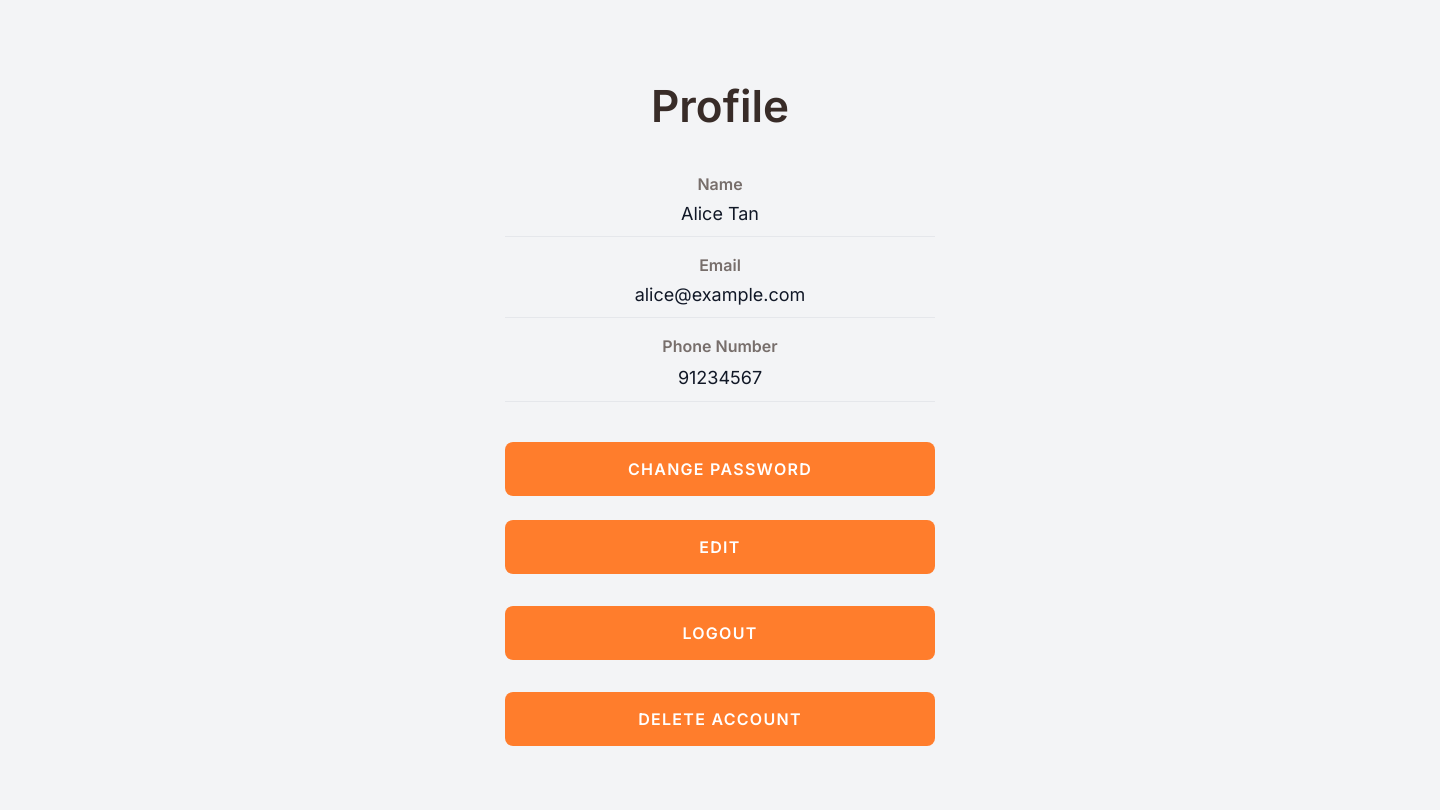
Test: Profile Page › validates empty and mismatched passwords in delete modal
The width and height of the screenshot is (1440, 810).
Expected: the text "Profile" is shown, [651,79,789,133]
// Open delete modal
Click the button "Delete Account" at (720, 719), box [505,692,935,746]
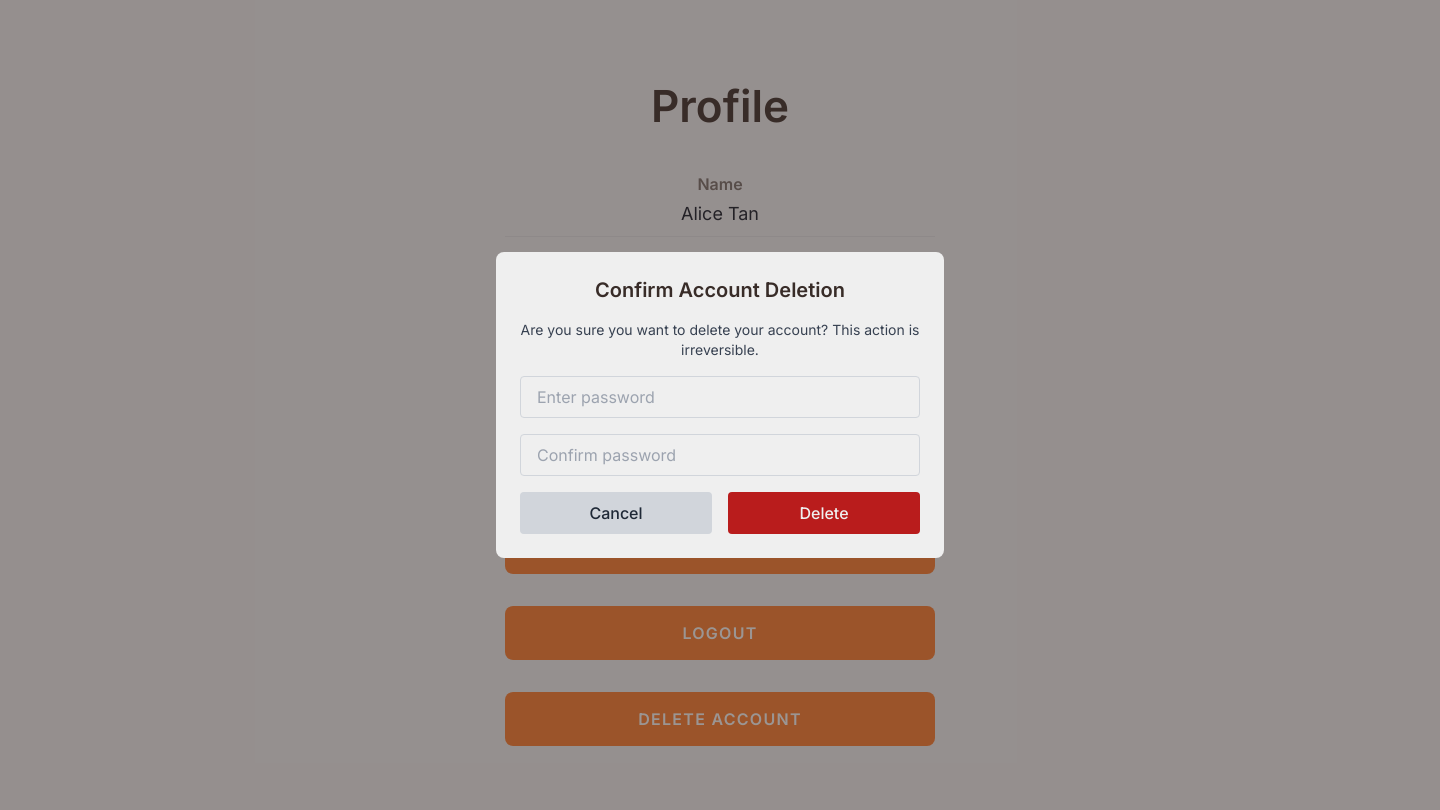
Expected: the heading "Confirm Account Deletion" is shown, [595,278,845,302]
Click the button "Delete" at (824, 513), box [728,492,920,534]
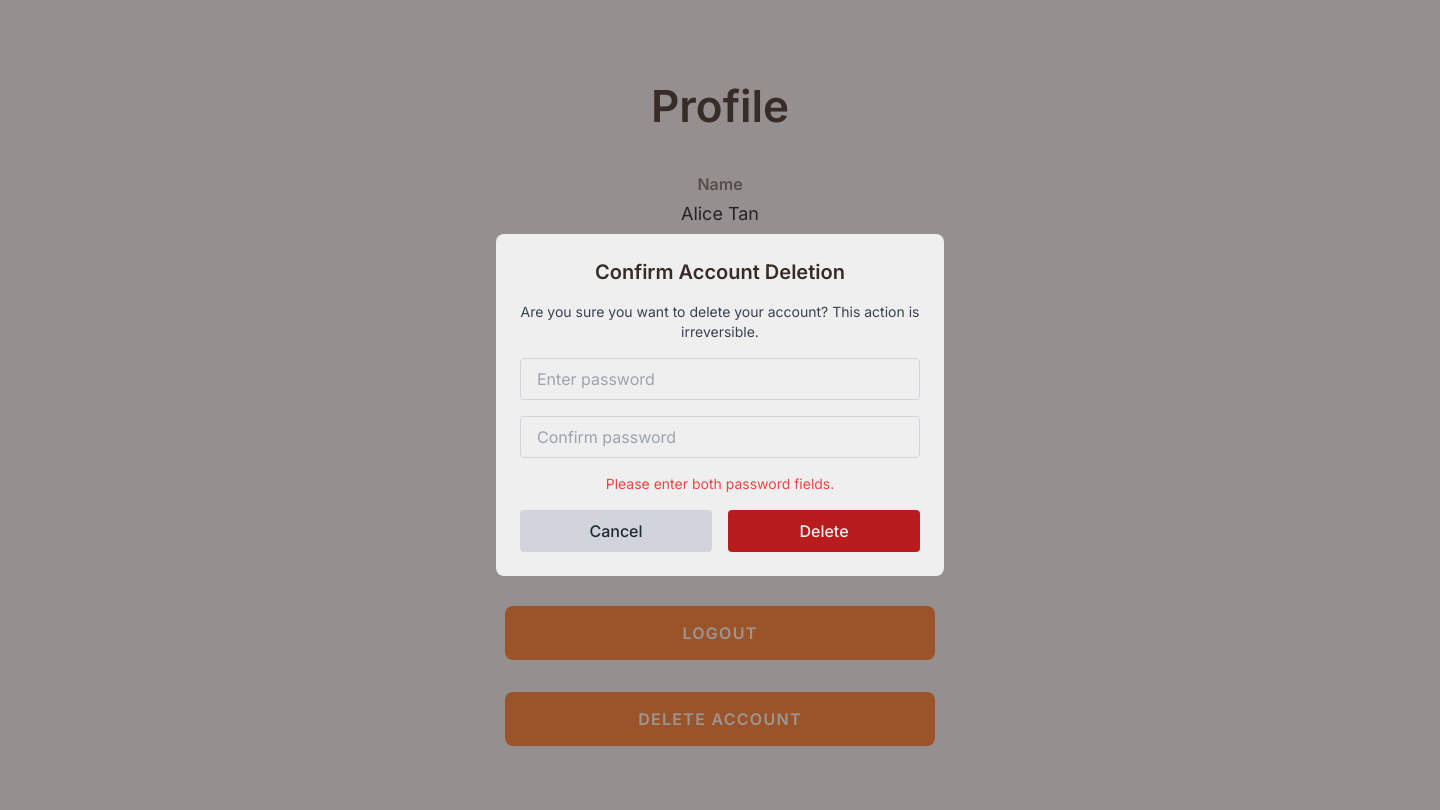
Expected: the text "Please enter both password fields." is shown, [606,475,834,492]
Type "Secret123!" into the password field with placeholder "Enter password" at (720, 379), box [520,358,920,400]
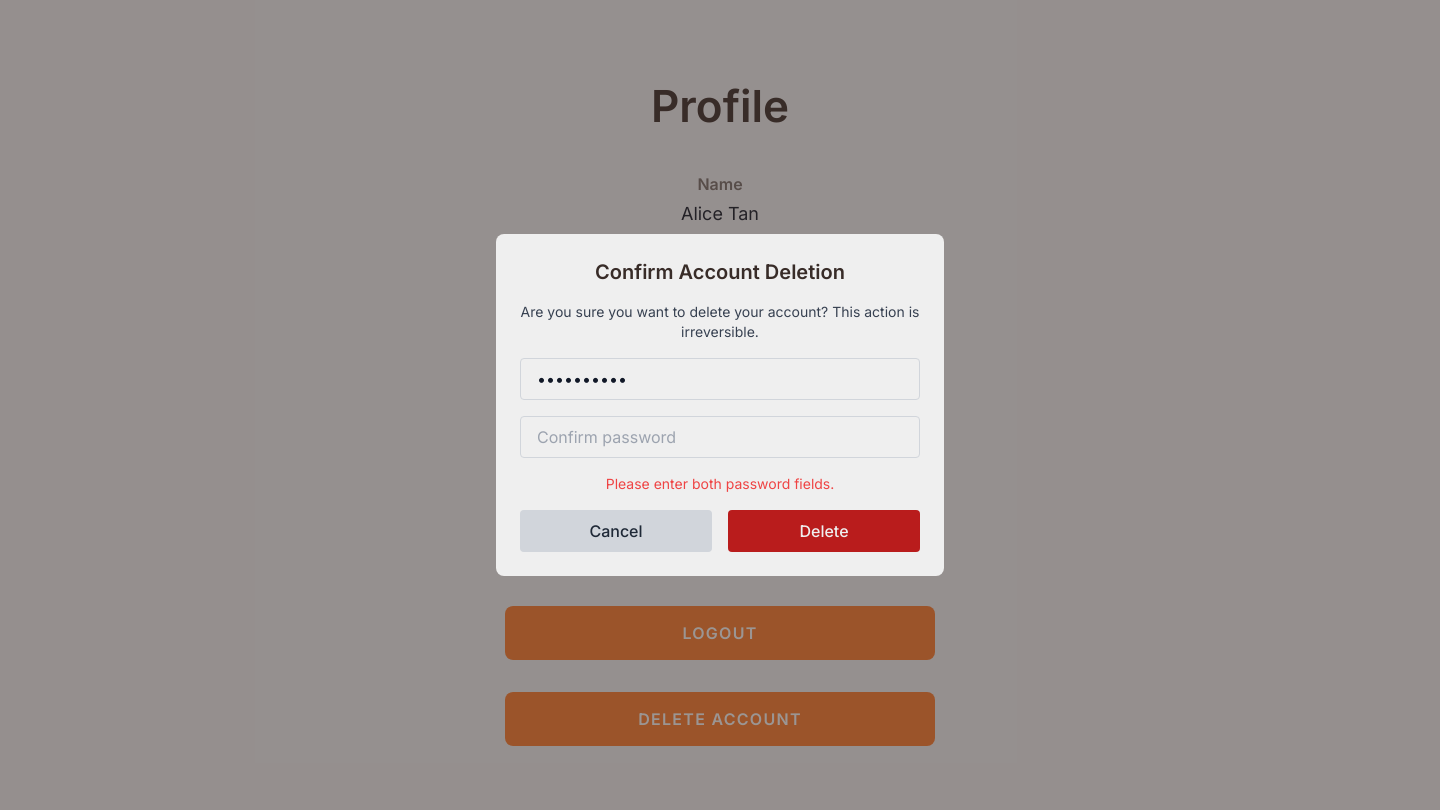
Type "Secret999!" into the password field with placeholder "Confirm password" at (720, 437), box [520,416,920,458]
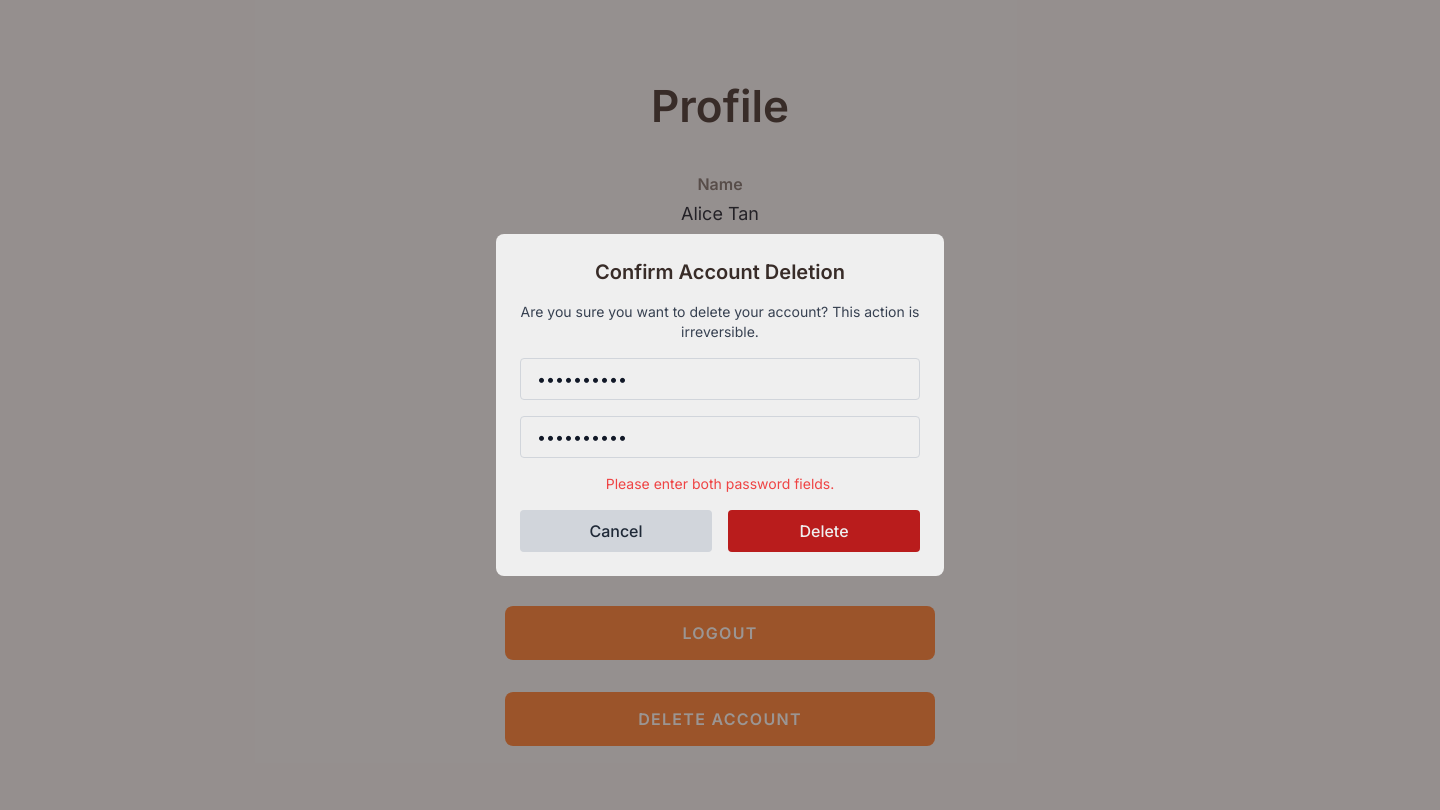
Click the button "Delete" at (824, 531), box [728,510,920,552]
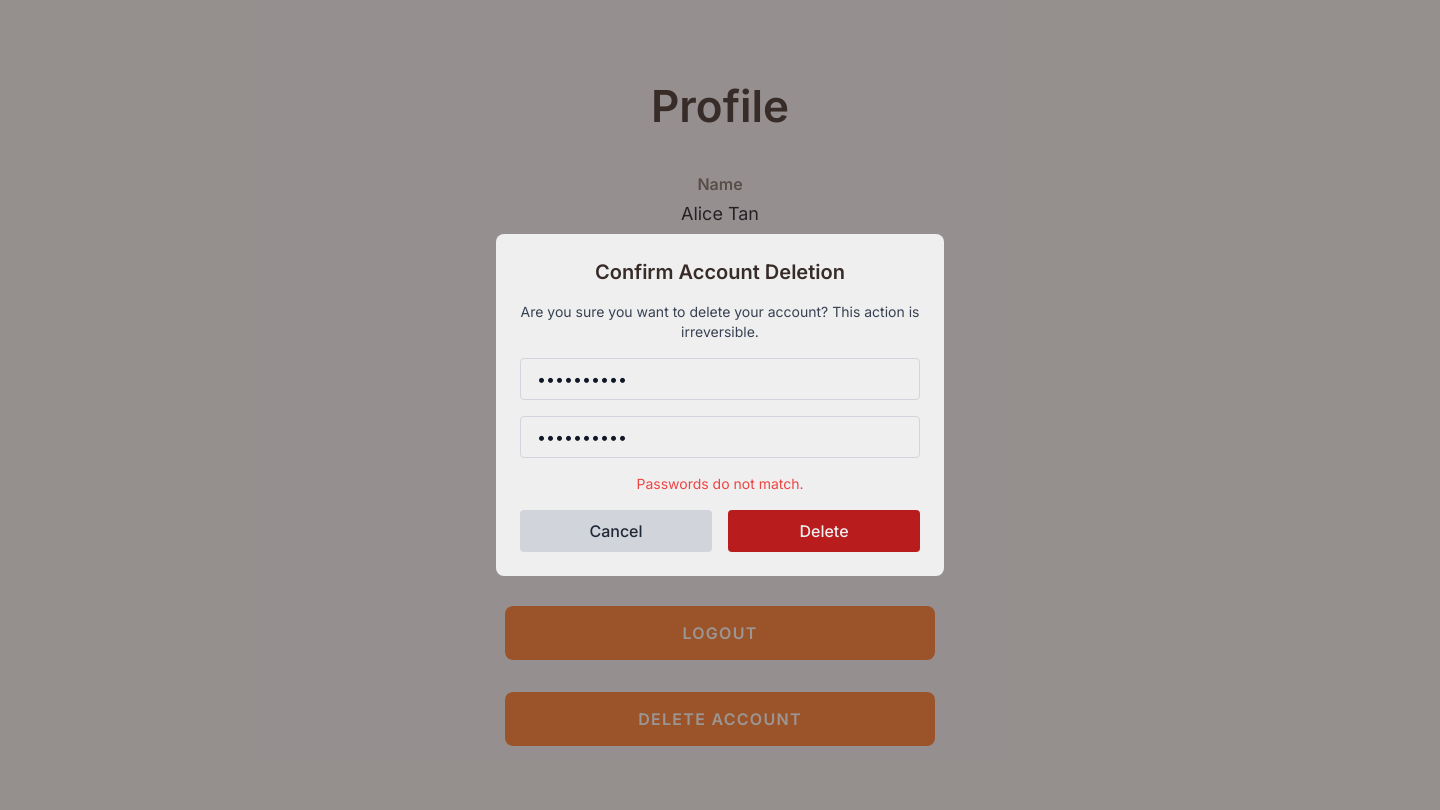
Expected: the text "Passwords do not match." is shown, [636,475,804,492]
